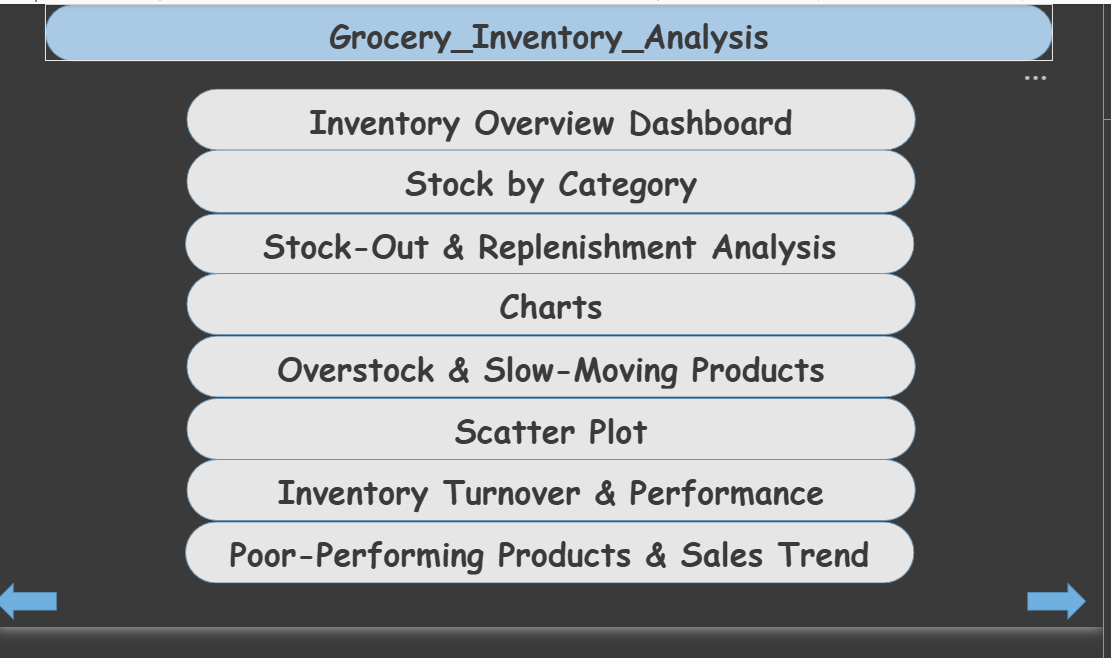

This screenshot's page, from the dashboard's own definition file:
{"tool":"powerbi","page":{"name":"Table of Contents","canvas":[1280,720],"ordinal":1},"visuals":[{"type":"shape","box":[220.7,97.4,842.4,71.4],"z":0},{"type":"shape","box":[220.7,168.8,842.4,73],"z":1000},{"type":"shape","box":[219.1,241.8,842.4,69.8],"z":2000},{"type":"shape","box":[220.7,311.6,842.4,71.4],"z":3000},{"type":"shape","box":[220.7,383,842.4,71.4],"z":4000},{"type":"shape","box":[220.7,454.5,842.4,71.4],"z":5000},{"type":"shape","box":[220.7,525.9,842.4,71.4],"z":6000},{"type":"shape","box":[219.1,597.3,842.4,71.4],"z":7000},{"type":"shape","box":[58.1,0,1164.5,66.4],"z":8000},{"type":"shape","box":[1192.7,668.5,68,43.1],"z":9000},{"type":"shape","box":[0,668.5,71.3,43.1],"z":10000}]}

Visuals, with their boxes on the page's 1280x720 design canvas (x1, y1, x2, y2). These are canvas units, not pixel positions in the 1111x658 screenshot, which may show the page scaled, cropped or inside an application window:
shape: 221 97 1063 169
shape: 221 169 1063 242
shape: 219 242 1062 312
shape: 221 312 1063 383
shape: 221 383 1063 454
shape: 221 454 1063 526
shape: 221 526 1063 597
shape: 219 597 1062 669
shape: 58 0 1223 66
shape: 1193 668 1261 712
shape: 0 668 71 712
